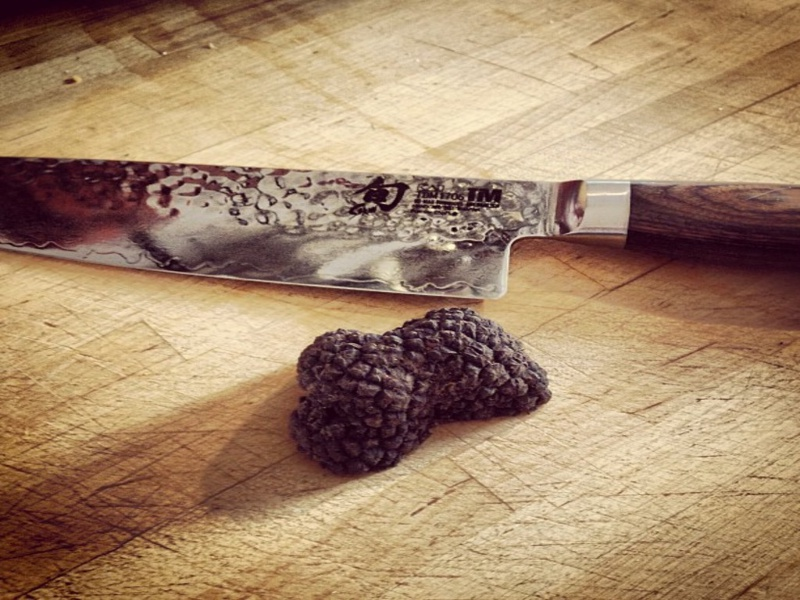knife: (1, 156, 799, 302)
